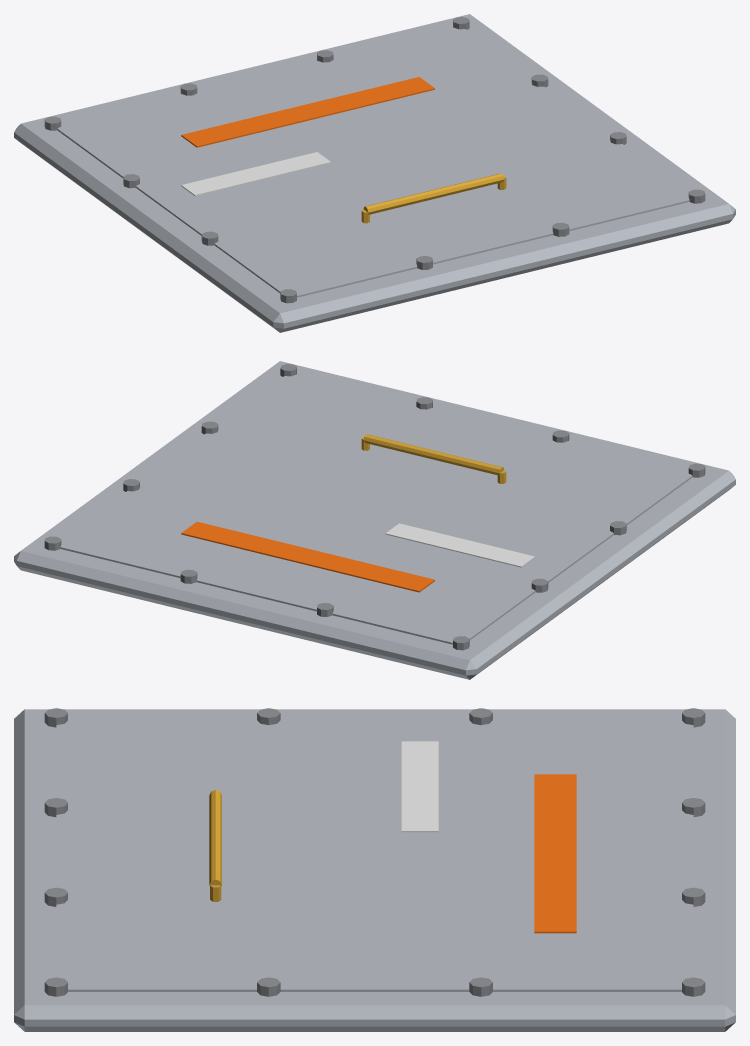
The model's file is hull_panel.obj.
3 renders of one model, top to bottom at view 1: azimuth 30°, elevation 25°; view 2: azimuth 150°, elevation 25°; view 3: azimuth 270°, elevation 25°, orthographic. The views are drawn at different scales.
Visible parts, largest first — view 1: hull_panel; view 2: hull_panel; view 3: hull_panel.
Part boxes in pixels (x1,y1,x2,y2): hull_panel: (14,14,735,332); hull_panel: (14,361,735,679); hull_panel: (14,708,735,1031).
Size of the model in its own units: 1.36 by 0.102 by 1.36.
